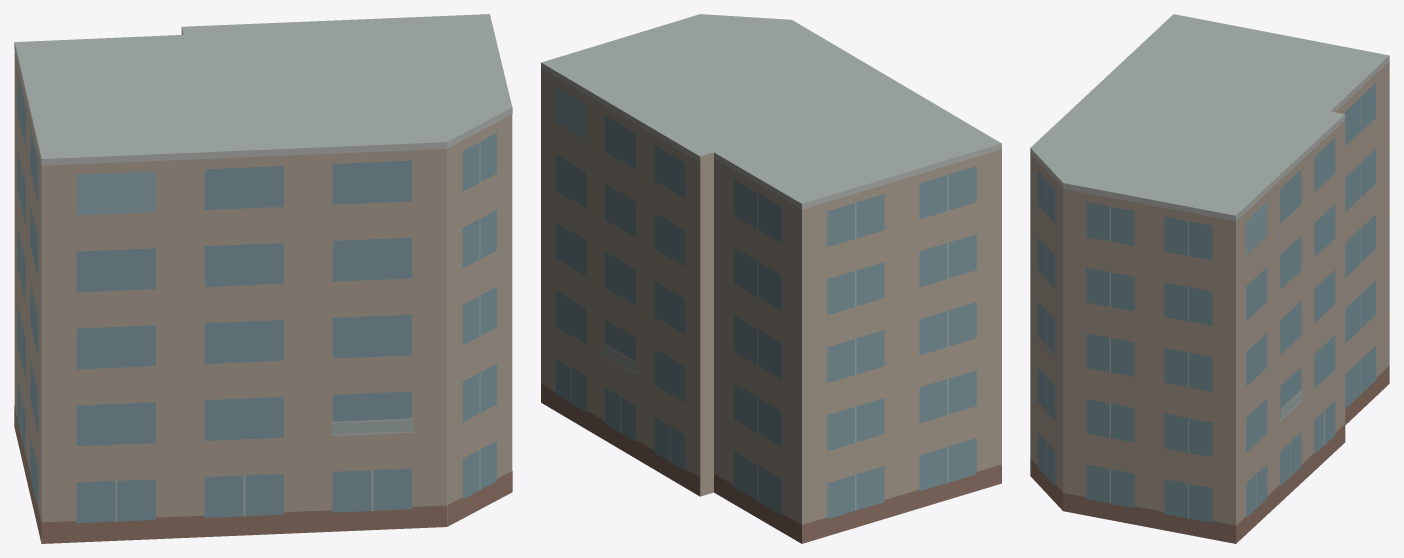
The model's file is survey-upis-32969282.glb.
3 views of the same model, side by side, from view 1: azimuth 30°, elevation 25°; view 2: azimuth 150°, elevation 25°; view 3: azimuth 270°, elevation 25° (orthographic). The views are drawn at different scales.
Parts seen in each view (by area): view 1: survey-upis-32969282.tmp; view 2: survey-upis-32969282.tmp; view 3: survey-upis-32969282.tmp.
Boxes of the visible parts, x1,y1,x2,y2 form: survey-upis-32969282.tmp: (14, 14, 512, 543); survey-upis-32969282.tmp: (541, 14, 1001, 543); survey-upis-32969282.tmp: (1030, 14, 1389, 543).
Bounding box in the file's own units: 18.47 × 14 × 13.9.
